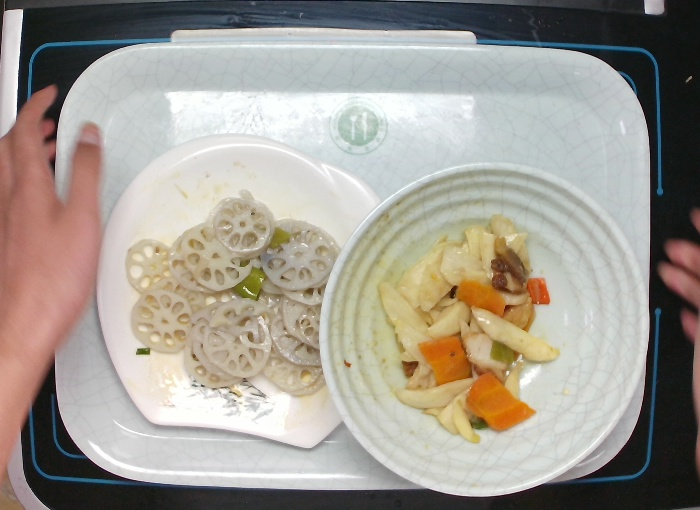JYsf-Da_Tang_Wan: (315, 151, 658, 505)
JYsf-Mian_Pan: (93, 132, 388, 453)
